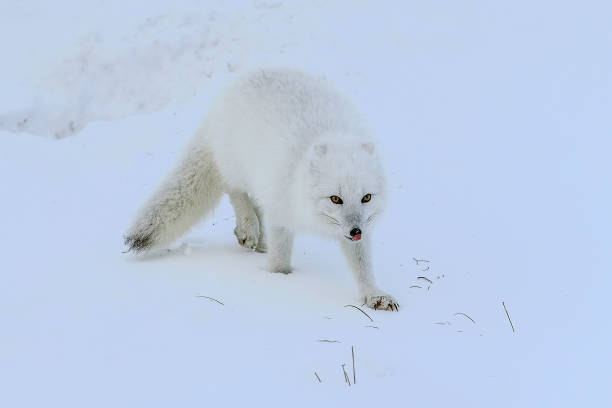arcticfox: (313, 154, 396, 253)
